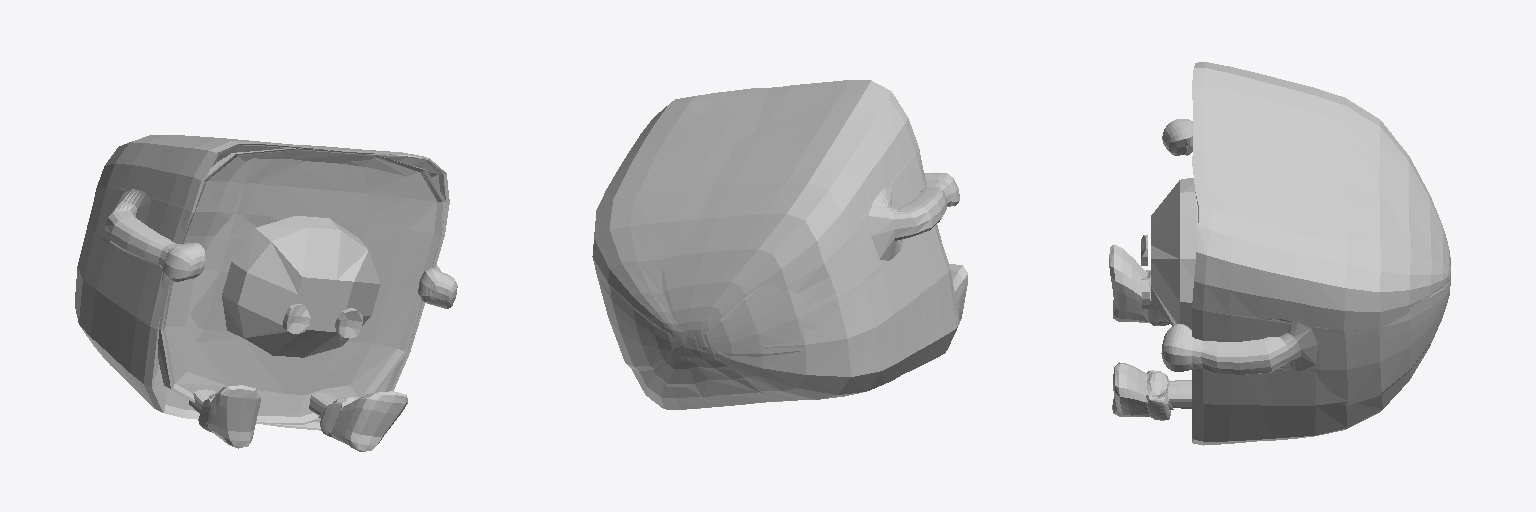
File: Pal_000017.obj
The picture shows the model from 3 angles: view 1: azimuth 30°, elevation 25°; view 2: azimuth 150°, elevation 25°; view 3: azimuth 270°, elevation 25°; orthographic projection.
Parts seen in each view (by area): view 1: Cuerpo_de_aguacate_3.001_Cube.002, Hueso_Cubo.003, Ojos_Cubo.002; view 2: Cuerpo_de_aguacate_3.001_Cube.002; view 3: Cuerpo_de_aguacate_3.001_Cube.002, Hueso_Cubo.003.
Boxes of the visible parts, x1,y1,x2,y2 form: Cuerpo_de_aguacate_3.001_Cube.002: [75, 135, 457, 451]; Hueso_Cubo.003: [222, 216, 380, 357]; Ojos_Cubo.002: [283, 304, 362, 338]; Cuerpo_de_aguacate_3.001_Cube.002: [592, 80, 967, 409]; Cuerpo_de_aguacate_3.001_Cube.002: [1109, 62, 1450, 445]; Hueso_Cubo.003: [1151, 178, 1197, 329].
Size of the model in its own units: 1.06 by 1.03 by 1.01.